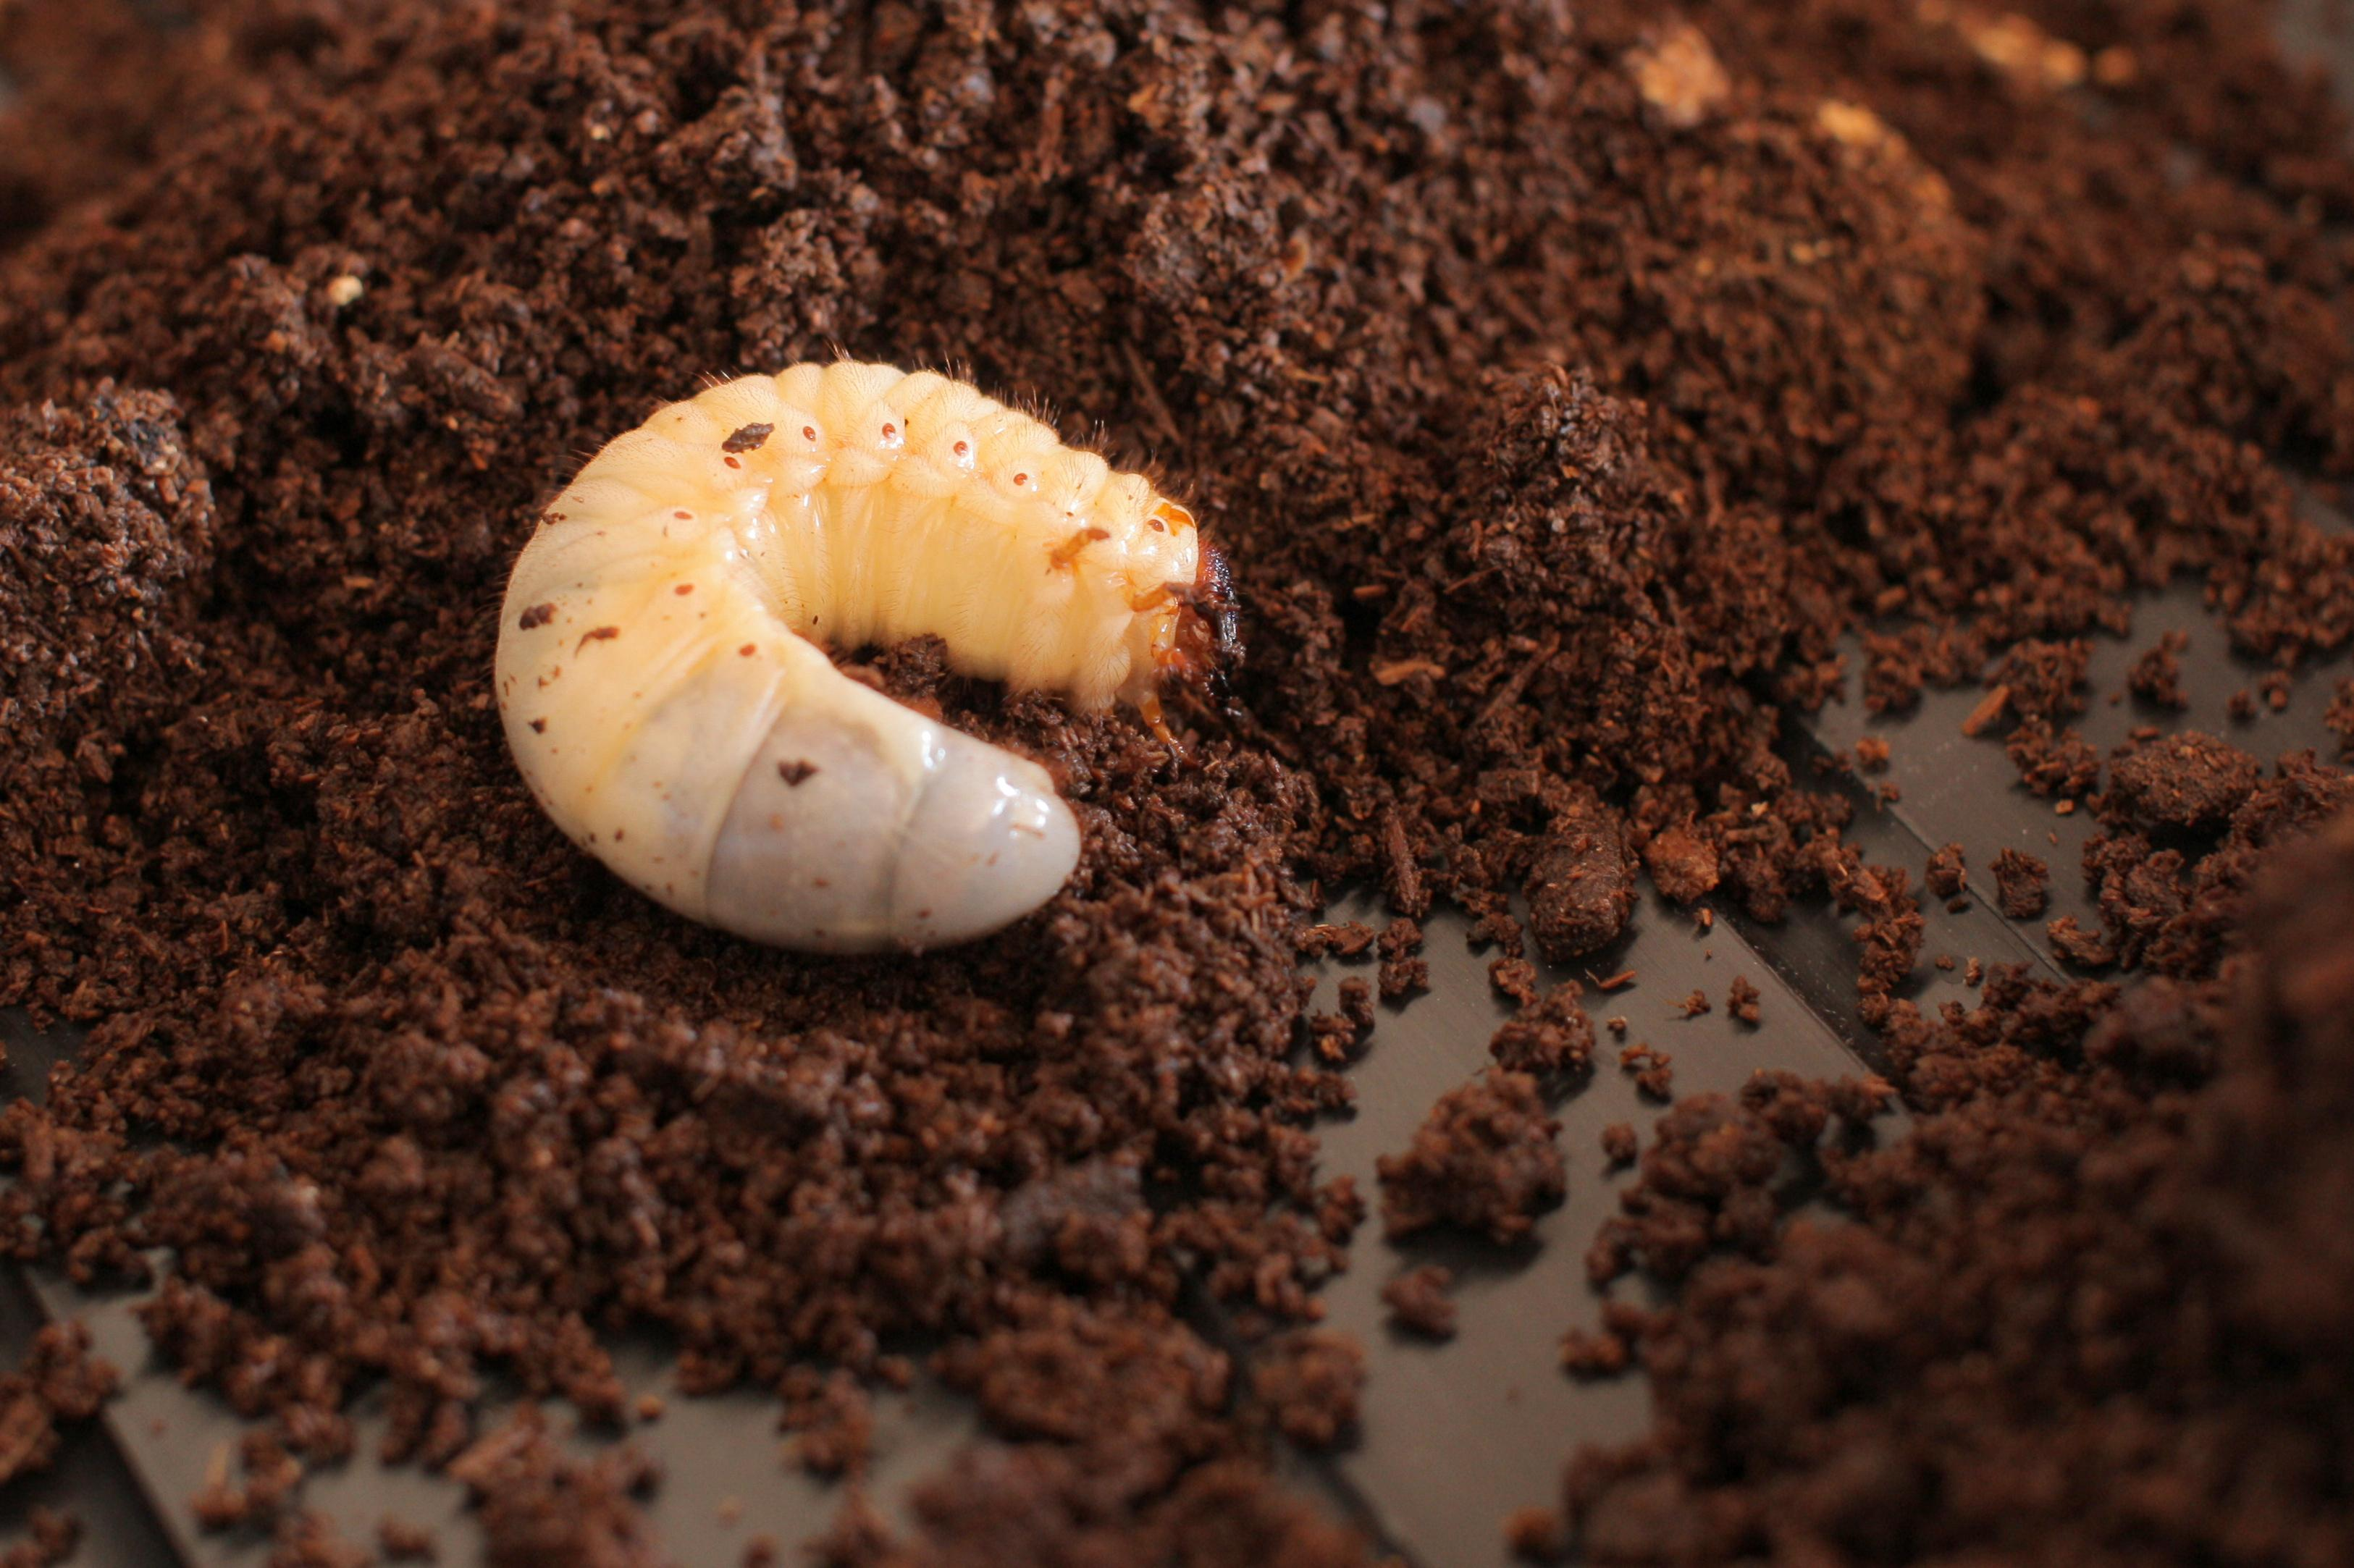grub: (464, 297, 1237, 931)
